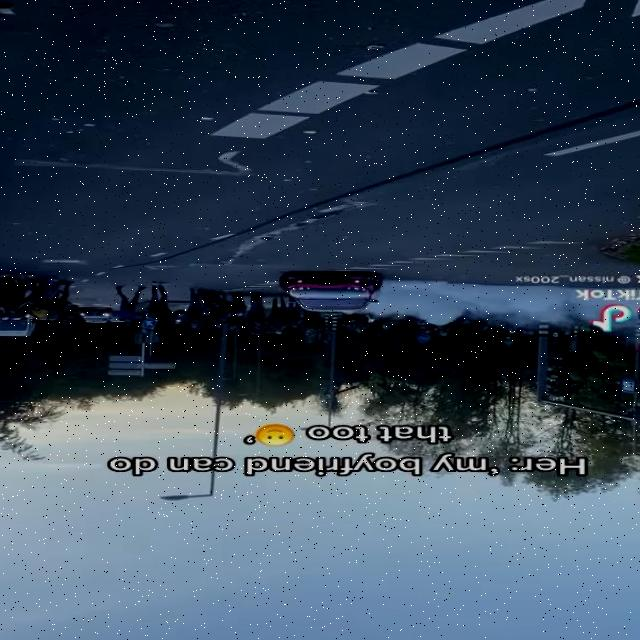car: (279, 271, 374, 313)
